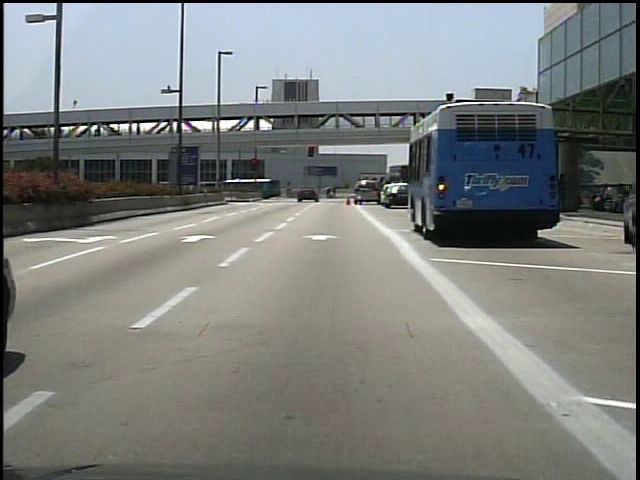person: (592, 182, 613, 210), (324, 186, 336, 201), (330, 185, 339, 201), (560, 175, 561, 210)
